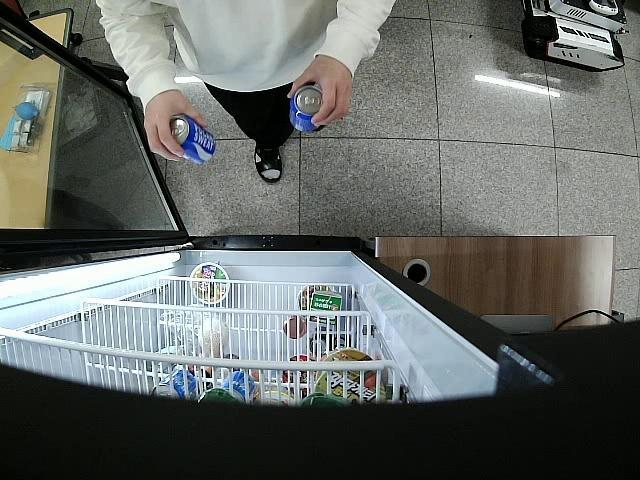13_pocariSweat: (170, 114, 217, 167), (290, 85, 324, 134)
